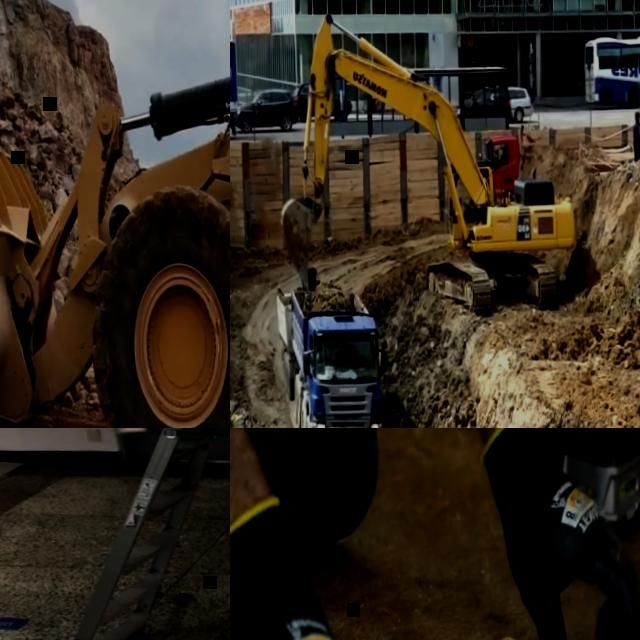NO-Hardhat: (634, 110, 640, 117)
NO-Safety Vest: (631, 123, 640, 148)
Person: (230, 428, 640, 640), (105, 428, 230, 523), (631, 110, 640, 159), (315, 345, 327, 365)
Safety Vest: (316, 349, 322, 363)
machinery: (0, 0, 230, 428), (274, 10, 577, 319), (274, 265, 391, 428), (478, 133, 522, 199)
vehicle: (581, 29, 640, 107), (234, 87, 299, 133), (292, 80, 351, 123), (454, 85, 511, 129), (489, 84, 533, 122)
